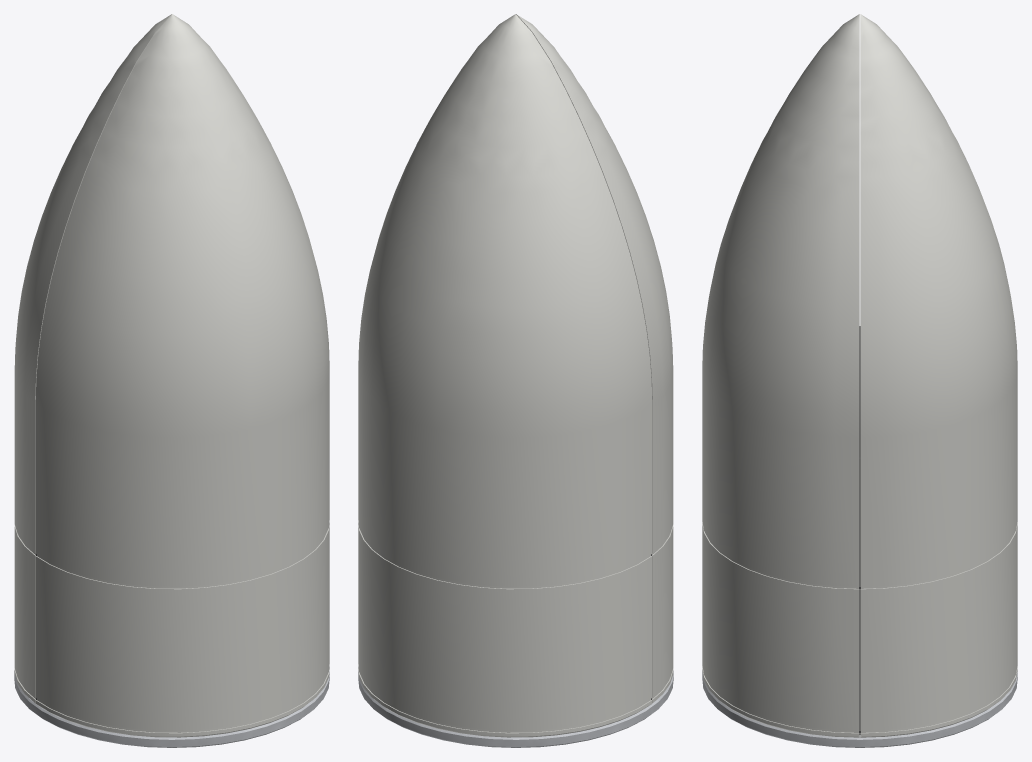
File: ax_struct_09_payload_fairing_l.glb
3 views of the same model, side by side, from view 1: azimuth 30°, elevation 25°; view 2: azimuth 150°, elevation 25°; view 3: azimuth 270°, elevation 25° (orthographic).
Visible parts, largest first — view 1: half_b, half_a, base_ring; view 2: half_a, half_b, base_ring; view 3: half_a, half_b, base_ring, separation_rails.
Boxes of the visible parts, x1,y1,x2,y2 form: half_b: (35, 14, 329, 737); half_a: (14, 14, 171, 703); base_ring: (14, 670, 329, 747); half_a: (358, 14, 652, 737); half_b: (516, 14, 673, 703); base_ring: (358, 670, 673, 747); half_a: (860, 14, 1017, 737); half_b: (702, 14, 859, 737); base_ring: (702, 672, 1017, 747); separation_rails: (859, 326, 860, 734).
Size of the model in its own units: 3.75 by 8.76 by 3.75.
3 materials, 1 textured.
